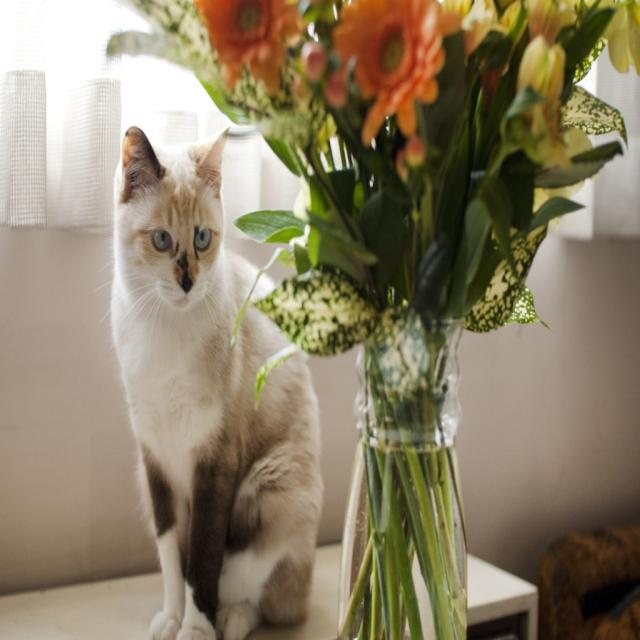Cat: (96, 118, 327, 638)
